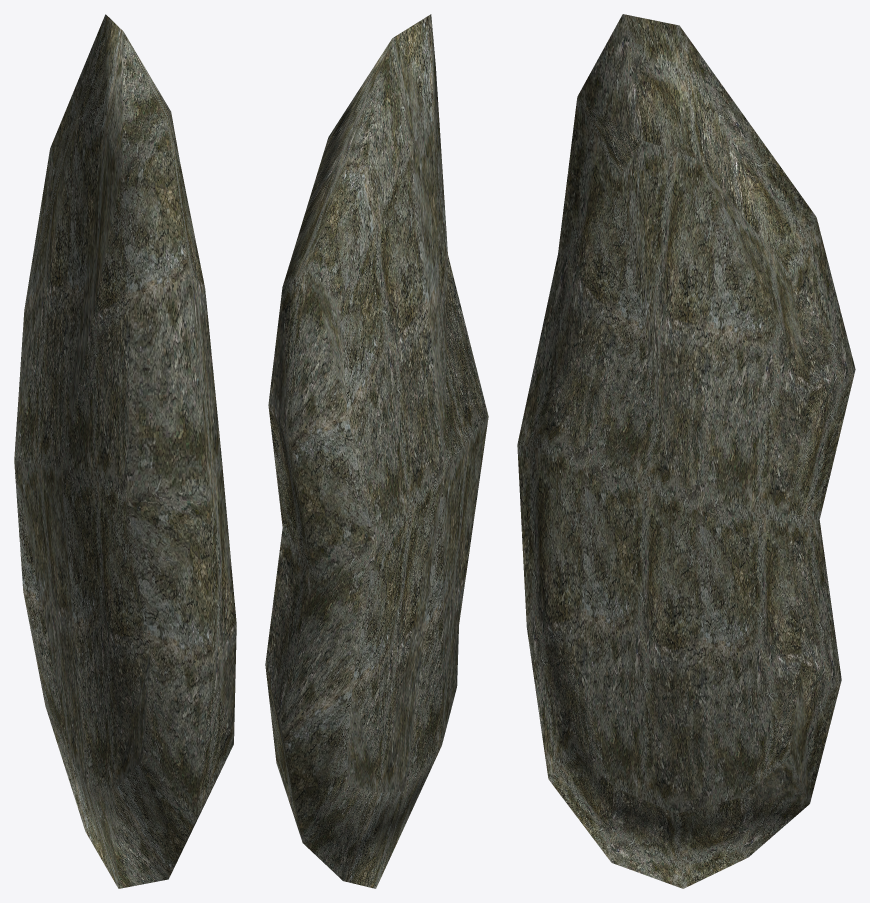
Rendered from rock_dant_a2_l1.fbx.
The picture shows the model from 3 angles, left to right: view 1: azimuth 30°, elevation 25°; view 2: azimuth 150°, elevation 25°; view 3: azimuth 270°, elevation 25°; orthographic projection. The views are drawn at different scales.
Visible parts, largest first — view 1: mesh_node; view 2: mesh_node; view 3: mesh_node.
Part boxes in pixels (left/top/right/bottom): mesh_node: left=14, top=14, right=236, bottom=888; mesh_node: left=265, top=14, right=488, bottom=888; mesh_node: left=517, top=14, right=855, bottom=888.
Size of the model in its own units: 0.8257 by 5.44 by 1.93.
1 material, 1 textured.
